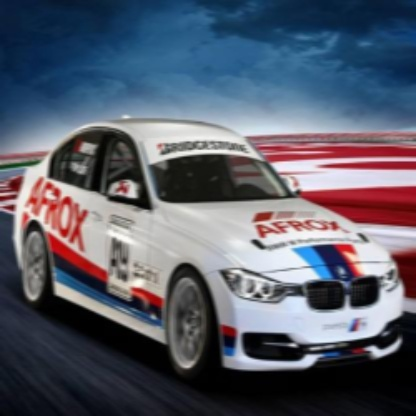Vehicle: (13, 105, 410, 398)
